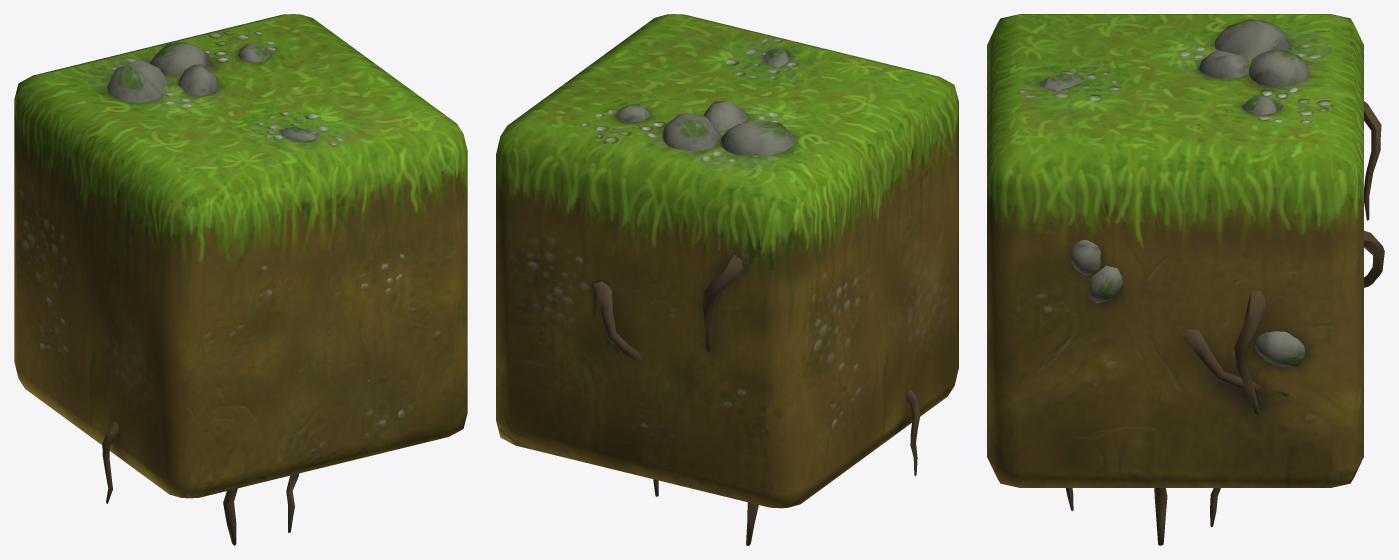
Rendered from SnazzyExampleMesh.fbx.
3 views of the same model, side by side, from view 1: azimuth 30°, elevation 25°; view 2: azimuth 150°, elevation 25°; view 3: azimuth 270°, elevation 25° (orthographic). The views are drawn at different scales.
Parts seen in each view (by area): view 1: polymsh1; view 2: polymsh1; view 3: polymsh1.
Part boxes in pixels (left/top/right/bottom): polymsh1: left=14, top=14, right=467, bottom=545; polymsh1: left=496, top=14, right=958, bottom=545; polymsh1: left=987, top=14, right=1384, bottom=545.
Bounding box in the file's own units: 1.1 × 1.46 × 1.06.
1 material, 1 textured.
